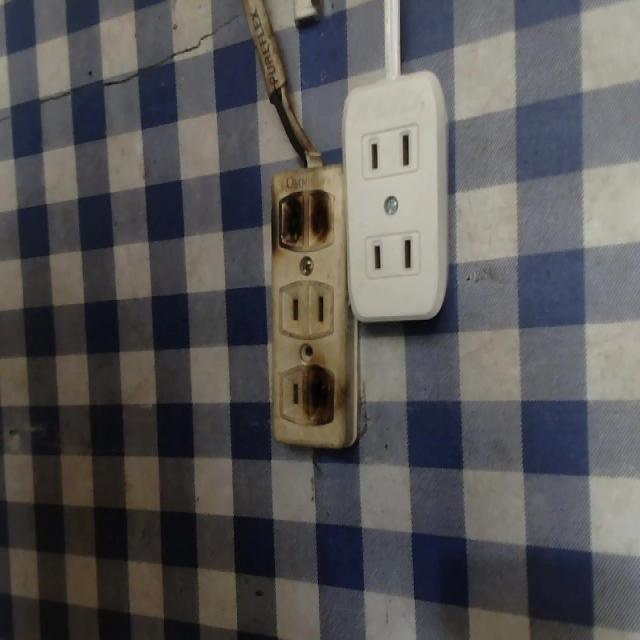-: (273, 189, 341, 255), (300, 361, 338, 431)
